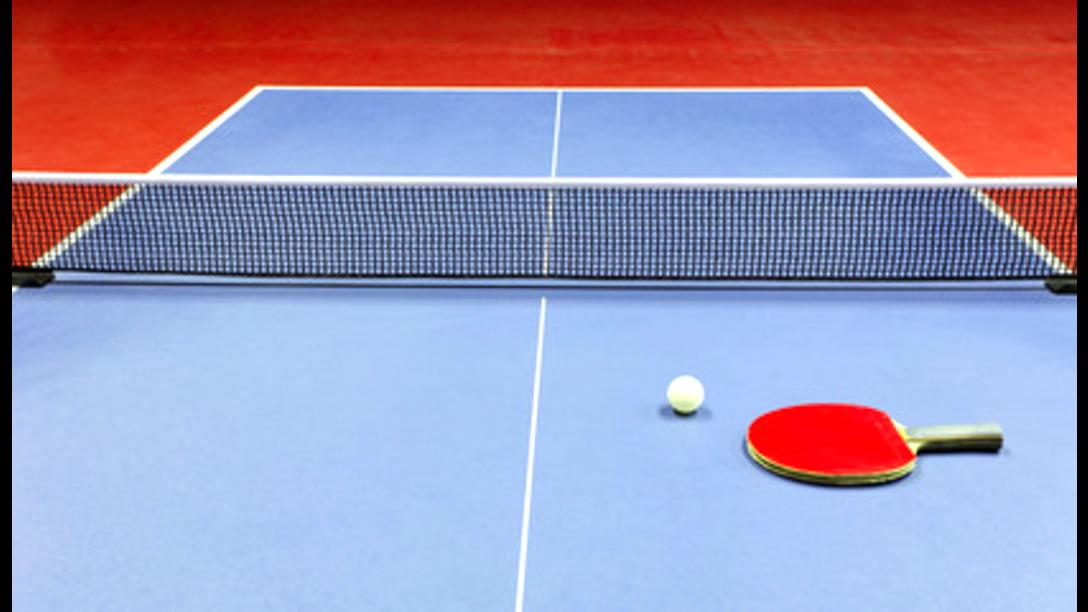Table-Tennis-Ball: (667, 375, 704, 411)
